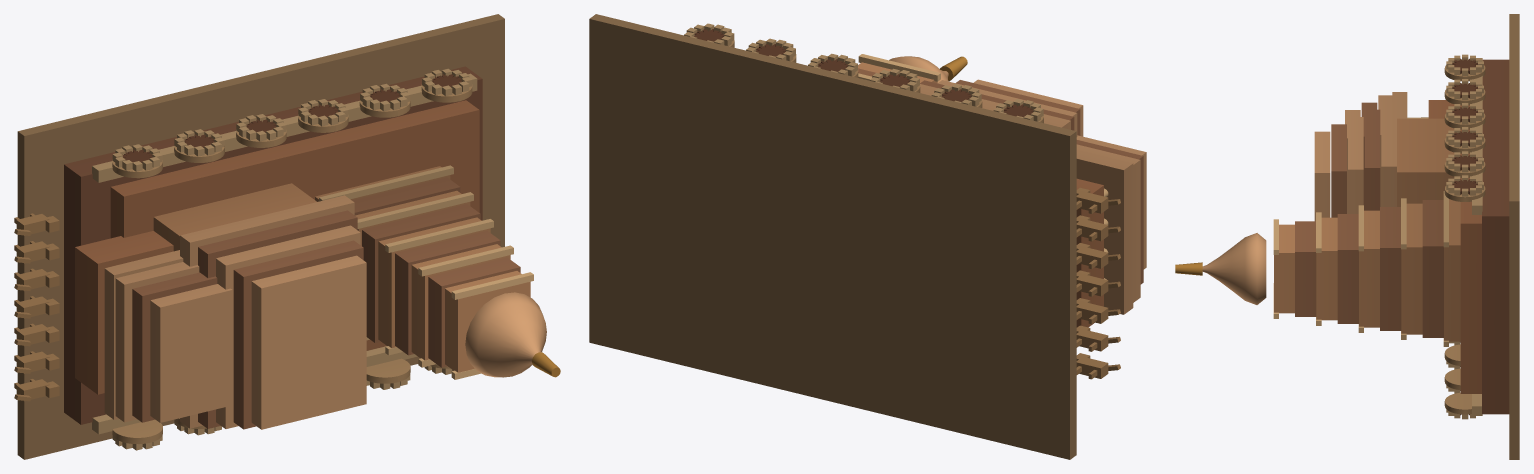
File: konark-sun.glb
The picture shows the model from 3 angles, left to right: view 1: azimuth 30°, elevation 25°; view 2: azimuth 150°, elevation 25°; view 3: azimuth 270°, elevation 25°; orthographic projection. The views are drawn at different scales.
Visible parts, largest first — view 1: part-roof, part-ground, part-plinth, part-templeShade, part-carving, part-temple, part-plinthShade, part-horse, part-wheel, part-spoke; view 2: part-ground, part-roof, part-horse, part-carving, part-templeShade, part-spoke, part-plinth; view 3: part-temple, part-templeShade, part-plinthShade, part-roof, part-carving, part-ground, part-plinth, part-wheel, part-spoke.
Part boxes in pixels (x1=…): part-roof: x1=104, y1=195, x2=546, y2=429; part-ground: x1=17, y1=14, x2=504, y2=459; part-plinth: x1=75, y1=100, x2=479, y2=394; part-templeShade: x1=132, y1=177, x2=520, y2=429; part-carving: x1=92, y1=68, x2=533, y2=450; part-temple: x1=153, y1=166, x2=530, y2=372; part-plinthShade: x1=64, y1=66, x2=482, y2=424; part-horse: x1=14, y1=213, x2=59, y2=401; part-wheel: x1=112, y1=84, x2=472, y2=444; part-spoke: x1=122, y1=74, x2=461, y2=162; part-ground: x1=589, y1=14, x2=1076, y2=459; part-roof: x1=889, y1=56, x2=1146, y2=314; part-horse: x1=1076, y1=187, x2=1120, y2=379; part-carving: x1=684, y1=23, x2=1108, y2=279; part-templeShade: x1=858, y1=68, x2=1143, y2=284; part-spoke: x1=694, y1=29, x2=1033, y2=116; part-plinth: x1=1076, y1=178, x2=1103, y2=327; part-temple: x1=1274, y1=118, x2=1460, y2=341; part-templeShade: x1=1295, y1=102, x2=1443, y2=337; part-plinthShade: x1=1482, y1=59, x2=1509, y2=414; part-roof: x1=1202, y1=92, x2=1407, y2=304; part-carving: x1=1273, y1=54, x2=1483, y2=419; part-ground: x1=1509, y1=14, x2=1519, y2=459; part-plinth: x1=1428, y1=100, x2=1481, y2=393; part-wheel: x1=1444, y1=65, x2=1485, y2=414; part-spoke: x1=1452, y1=58, x2=1477, y2=415.
Bounding box in the file's own units: 1.54 × 0.94 × 1.13.
